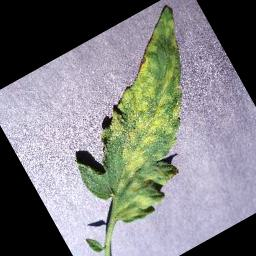Leaf_Mold: (38, 2, 255, 229)
